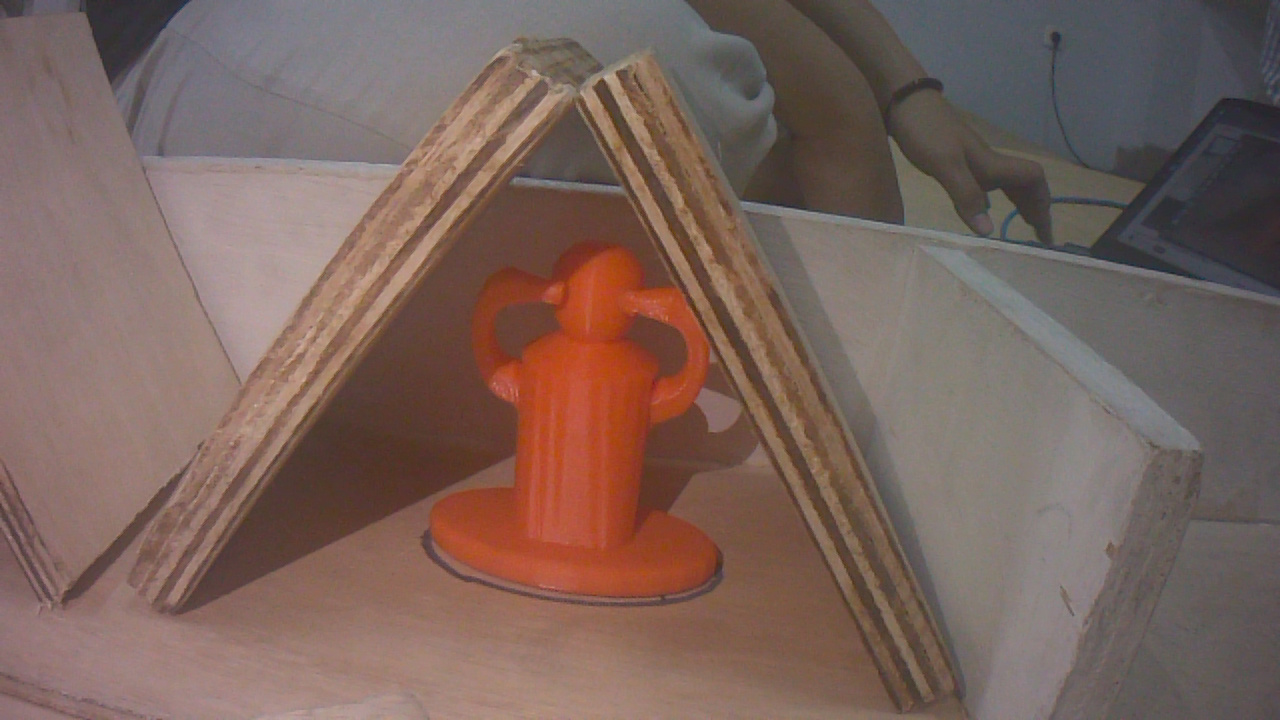real: (434, 230, 733, 628)
